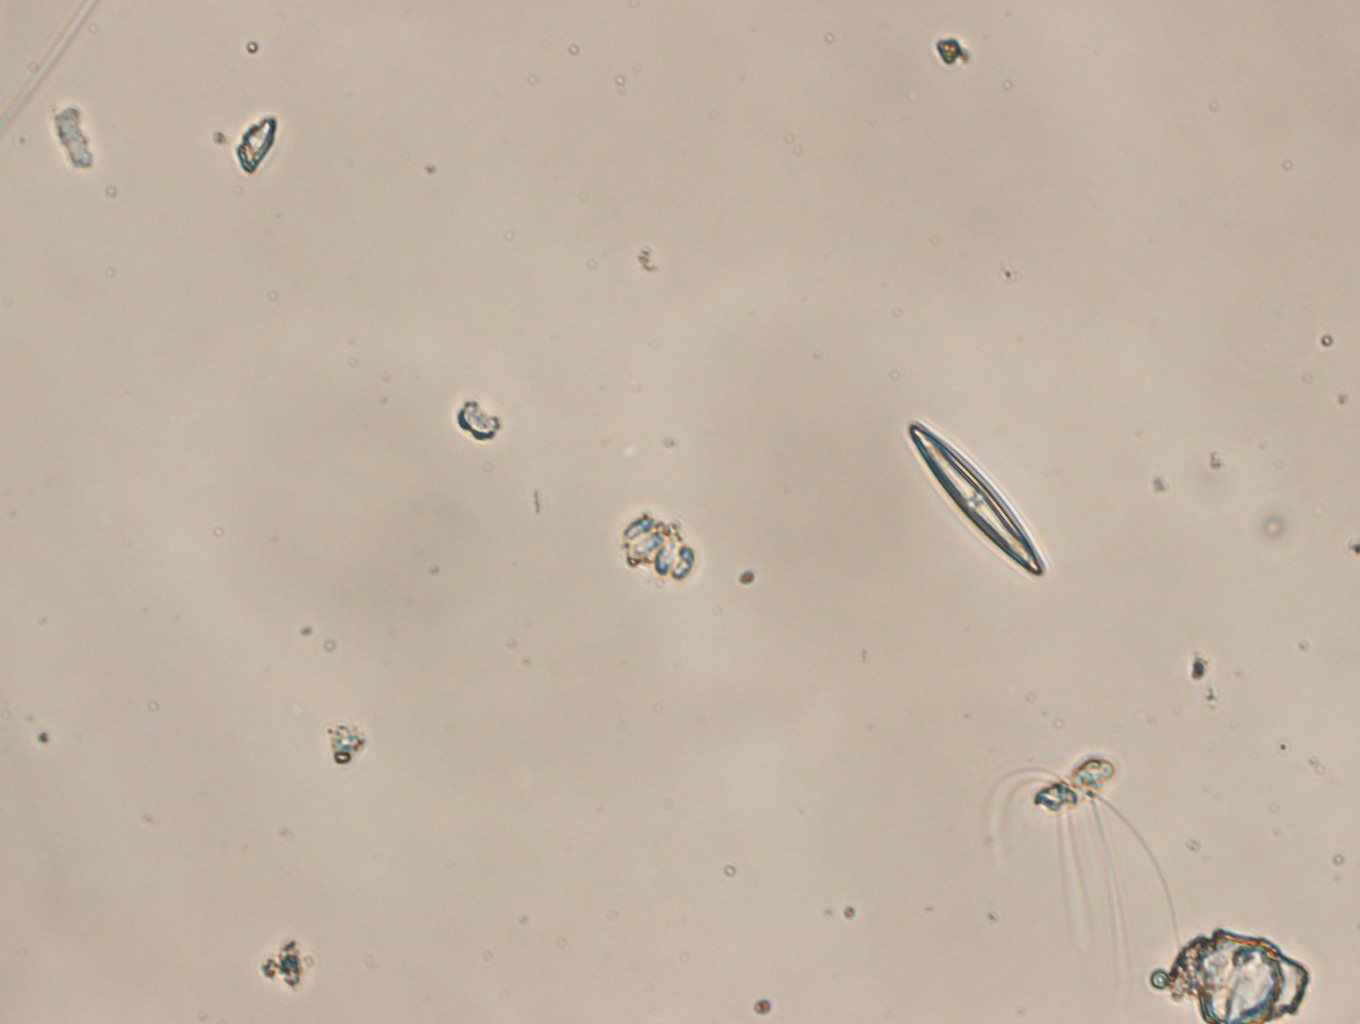chaetoceros: (976, 749, 1190, 1007)
navicula: (904, 415, 1053, 579)
